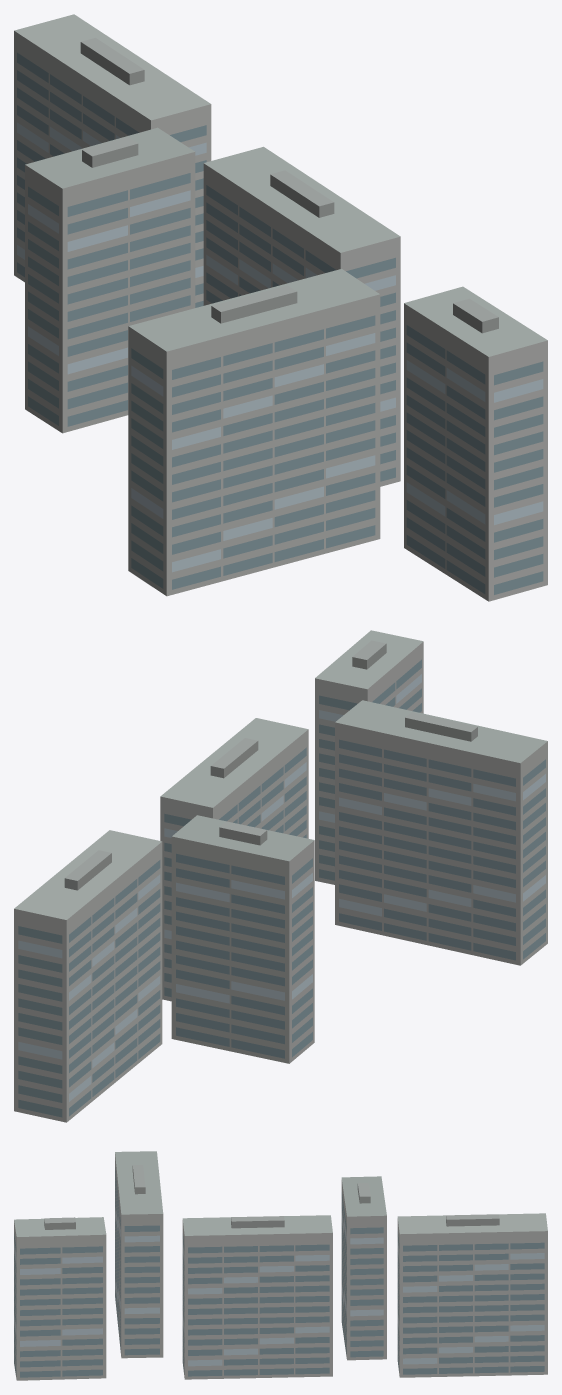
File: apt-a13991016.glb
3 renders of one model, top to bottom at view 1: azimuth 30°, elevation 25°; view 2: azimuth 150°, elevation 25°; view 3: azimuth 270°, elevation 25°, orthographic. The views are drawn at different scales.
Parts seen in each view (by area): view 1: apt-a13991016; view 2: apt-a13991016; view 3: apt-a13991016.
Boxes of the visible parts, <box> form: apt-a13991016: <box>14,14,547,601</box>; apt-a13991016: <box>14,630,547,1122</box>; apt-a13991016: <box>14,1151,547,1380</box>.
Size of the model in its own units: 49.04 by 40 by 129.
